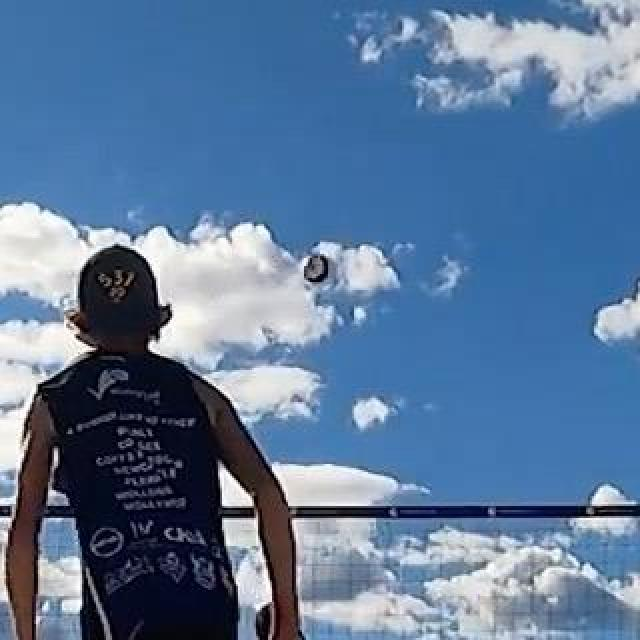volleyball: (303, 254, 335, 284)
